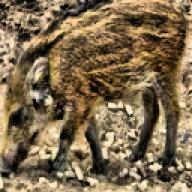boar: (0, 0, 190, 178)
